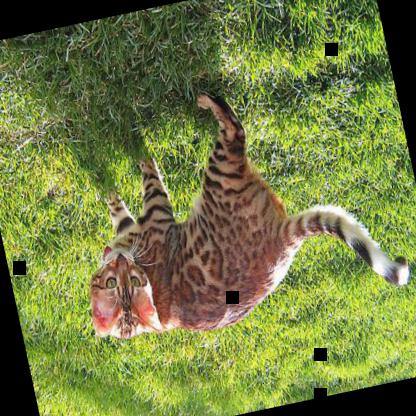cat: (51, 58, 414, 356)
